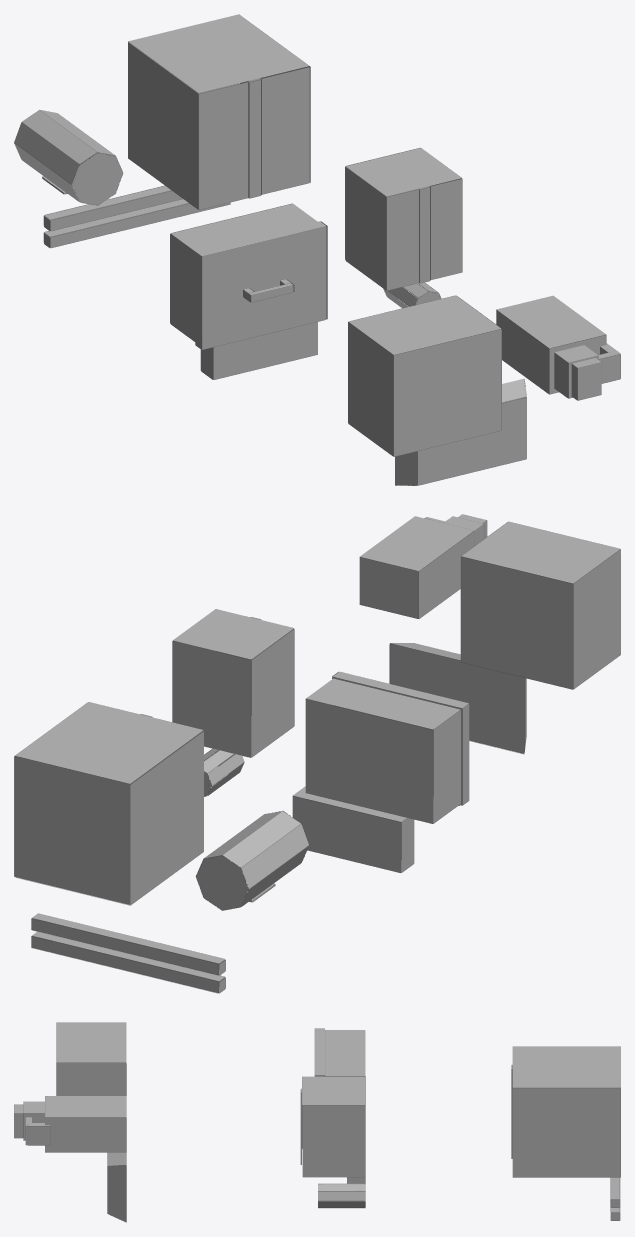
The model's file is contents_books_misc_02_27.obj.
The picture shows the model from 3 angles, top to bottom: view 1: azimuth 30°, elevation 25°; view 2: azimuth 150°, elevation 25°; view 3: azimuth 270°, elevation 25°; orthographic projection. The views are drawn at different scales.
Parts seen in each view (by area): view 1: contents_books_misc_02_27; view 2: contents_books_misc_02_27; view 3: contents_books_misc_02_27.
Boxes of the visible parts, x1,y1,x2,y2 form: contents_books_misc_02_27: (14,14,620,485); contents_books_misc_02_27: (14,514,620,993); contents_books_misc_02_27: (14,1022,620,1222).
Bounding box in the file's own units: 0.699 × 0.515 × 1.9.
1 material, 1 textured.
